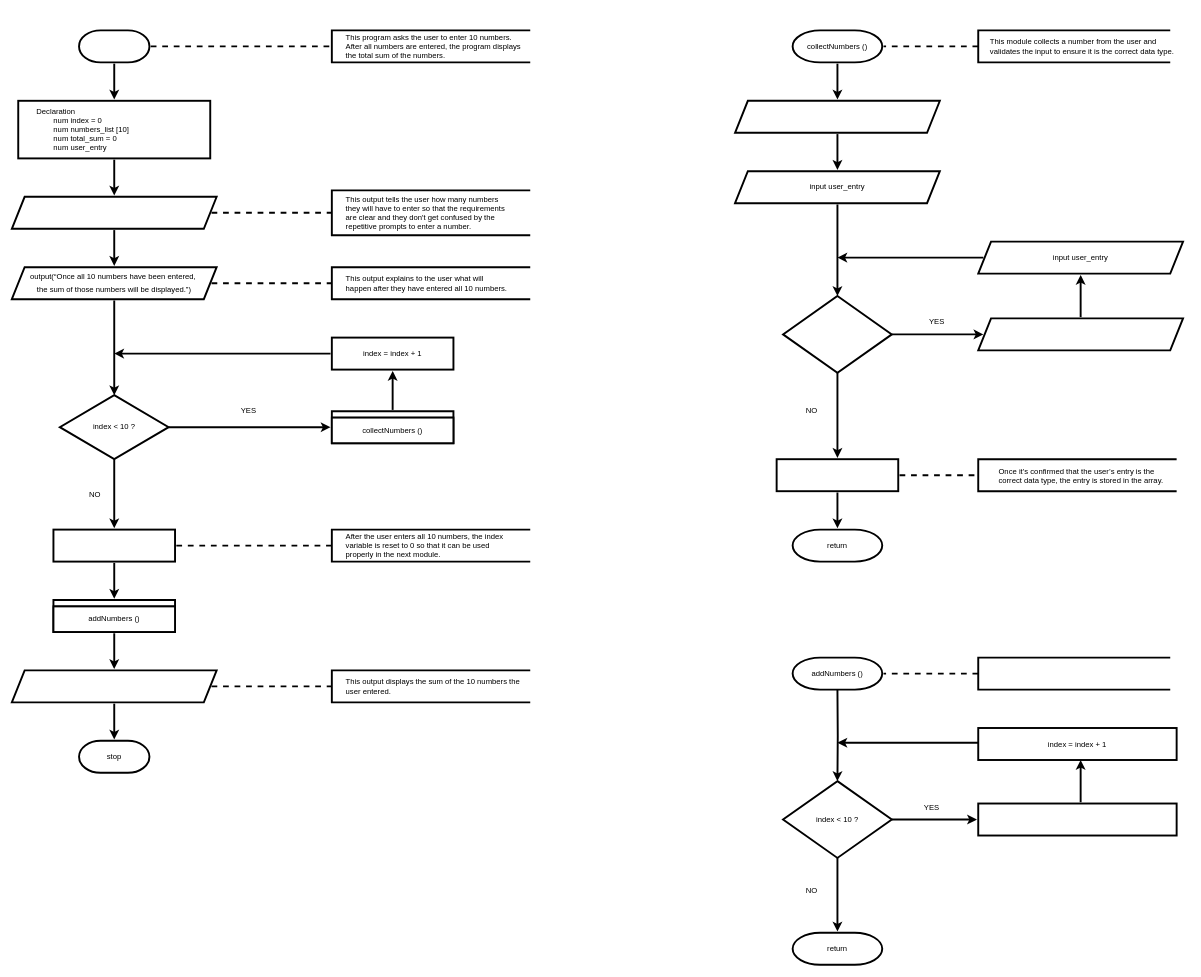
Image size: 1201x977. Some labels were removed from this diagram. The shapes that lost their labels are listed below. From the top down, each one's centre as x and y in pixels, then its label:
(x=114, y=46): start
(x=837, y=116): output(“Please enter a number: ")
(x=114, y=212): output(“Hello, you will be asked to enter 10 numbers.”)
(x=837, y=334): NOT isNumeric(user_entry) ?
(x=1080, y=334): output("Invalid entry - Please enter a number: ")
(x=837, y=475): numbers_list [index] = user_entry
(x=114, y=545): index = 0
(x=114, y=686): output(“The sum of the 10 numbers you entered is: ”, total_sum)
(x=1074, y=673): This module calculates the sum of the 10 numbers that the user entered.
(x=1077, y=819): total_sum = total_sum + numbers_list [index]
